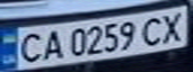0: (63, 25, 87, 57)
2: (84, 22, 106, 56)
5: (103, 20, 124, 53)
9: (115, 18, 142, 52)
A: (39, 27, 66, 61)
C: (12, 29, 48, 65), (136, 14, 169, 47)
X: (154, 8, 190, 44)
